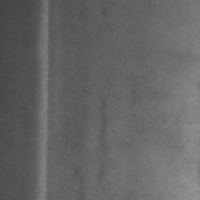inclusion: (92, 94, 115, 182)
scratches: (36, 1, 52, 199)
